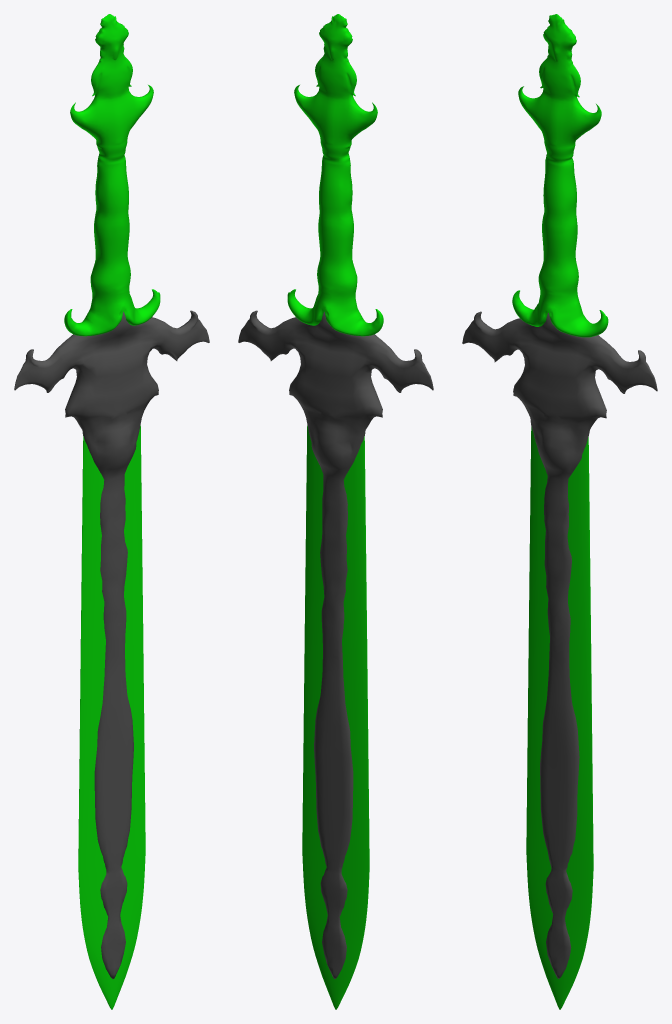
File: SM_Sword_1.fbx
3 renders of one model, left to right at view 1: azimuth 30°, elevation 25°; view 2: azimuth 150°, elevation 25°; view 3: azimuth 330°, elevation 25°, orthographic.
Parts seen in each view (by area): view 1: SM_Sword_1; view 2: SM_Sword_1; view 3: SM_Sword_1.
Boxes of the visible parts, x1,y1,x2,y2 form: SM_Sword_1: (14, 14, 209, 1009); SM_Sword_1: (238, 14, 433, 1009); SM_Sword_1: (462, 14, 657, 1009).
Size of the model in its own units: 18.12 by 88.24 by 4.
